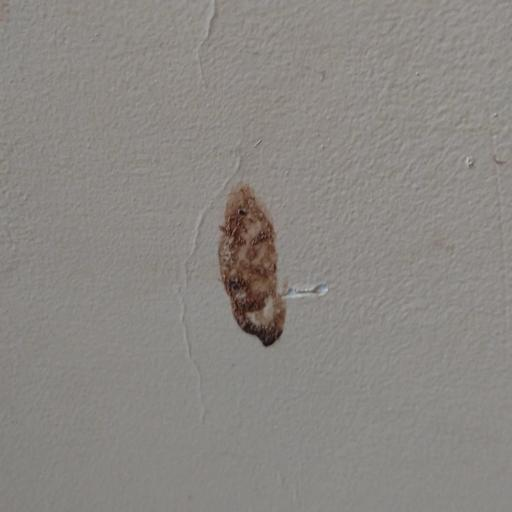stain: (202, 169, 356, 380)
